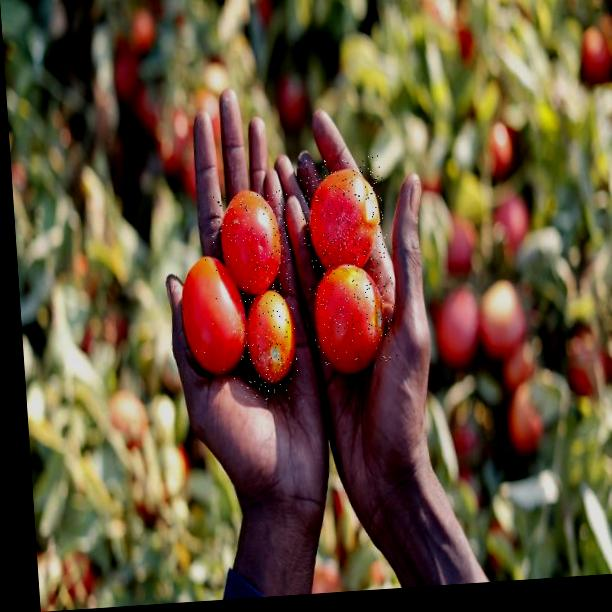Tomato: (174, 242, 257, 391), (299, 155, 389, 269), (210, 190, 294, 298), (308, 267, 398, 366), (236, 279, 300, 401)
